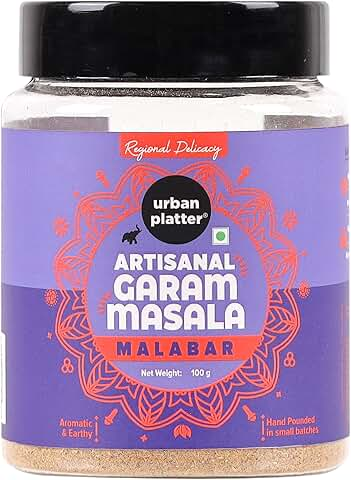Garamasala: (1, 5, 346, 480)
